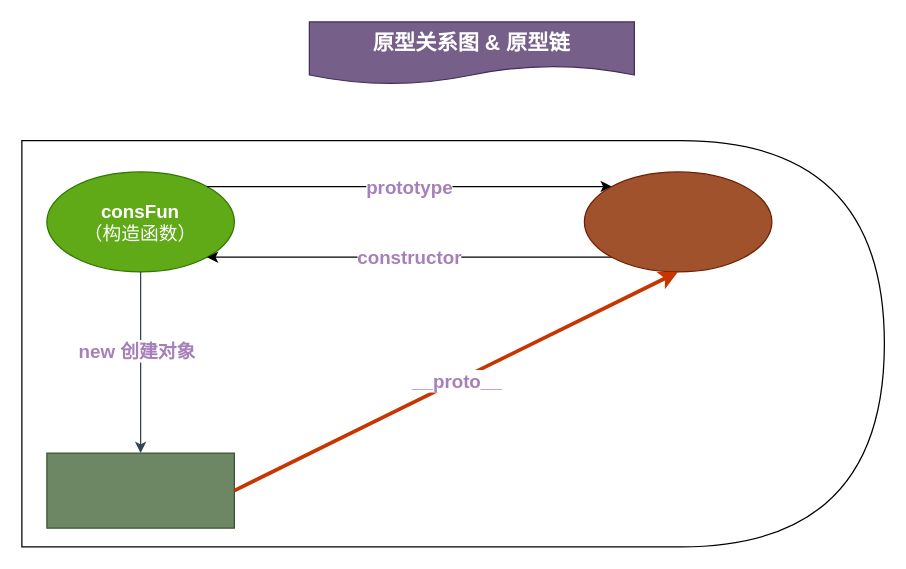
Image size: 906x569. Some labels were removed from this diagram. Each missing label, with the centre of its shape:
"consFun.prototype （原型对象）" belongs at (x=677, y=221).
"instance (实例对象)" belongs at (x=140, y=490).
